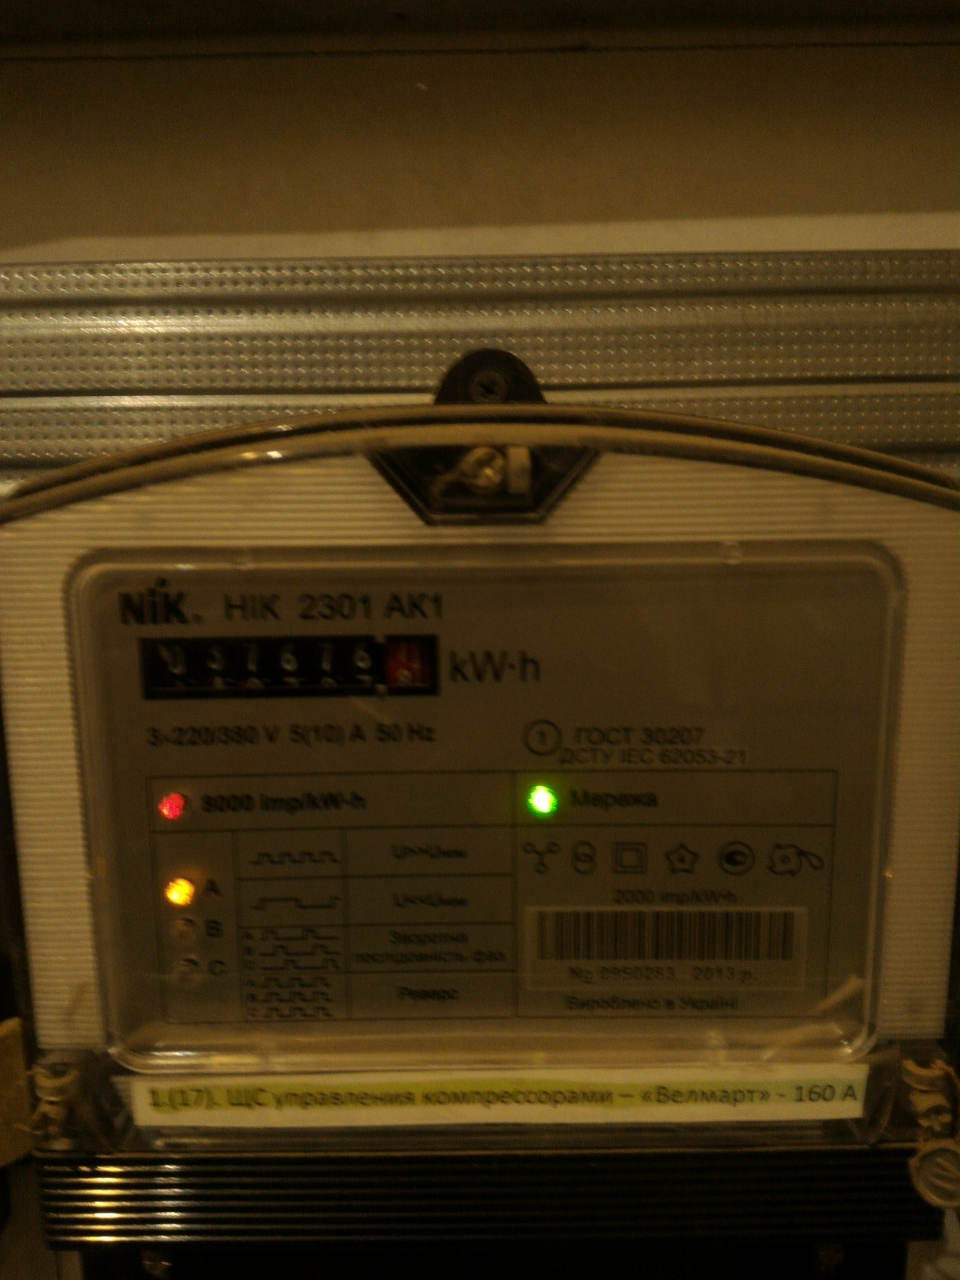0: (164, 643, 189, 676)
3: (204, 642, 225, 672)
6: (277, 641, 301, 672), (351, 639, 374, 670)
7: (239, 638, 263, 674), (314, 640, 337, 674)
screen: (125, 621, 458, 707)
x: (392, 641, 414, 682)
